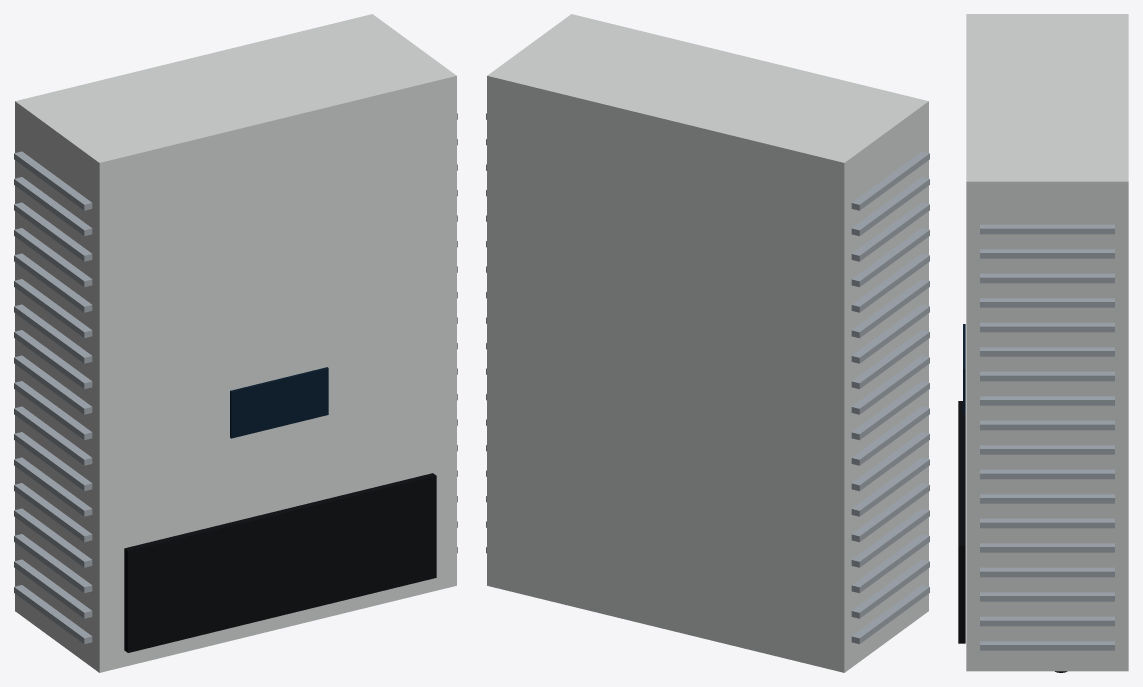
File: Napelemes_inverter.obj
The picture shows the model from 3 angles, left to right: view 1: azimuth 30°, elevation 25°; view 2: azimuth 150°, elevation 25°; view 3: azimuth 270°, elevation 25°; orthographic projection. The views are drawn at different scales.
Size of the model in its own units: 0.46 by 0.635 by 0.189.
